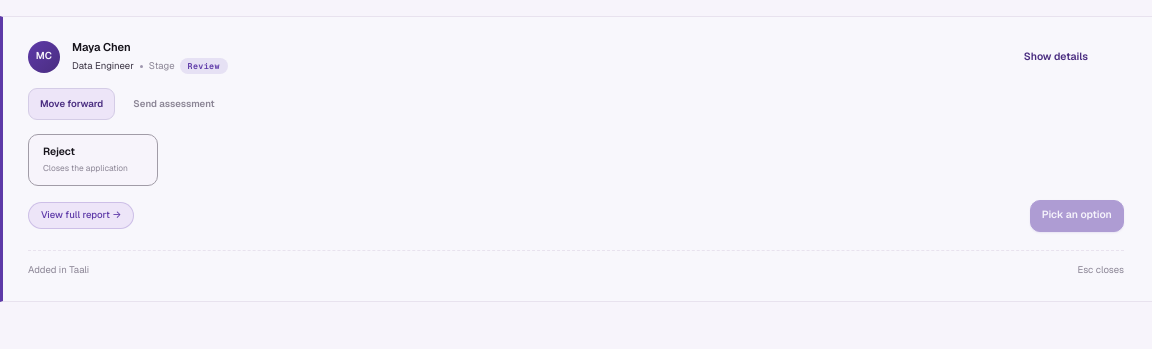
Scenario: CandidateTriageDrawer shared motion › demotes Send assessment to a manual override when the agent runs the role, keeping HITL controls
Expected: the tab "Move forward" is shown, [28,88,115,120]
Click the tab "Send assessment" at (174,104), box [121,88,227,120]
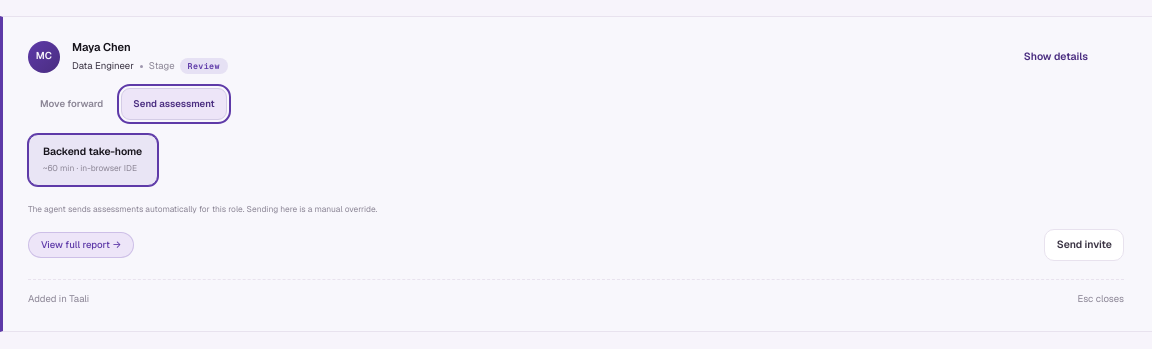
Now the text "manual override" is shown, box [28,204,377,214]
